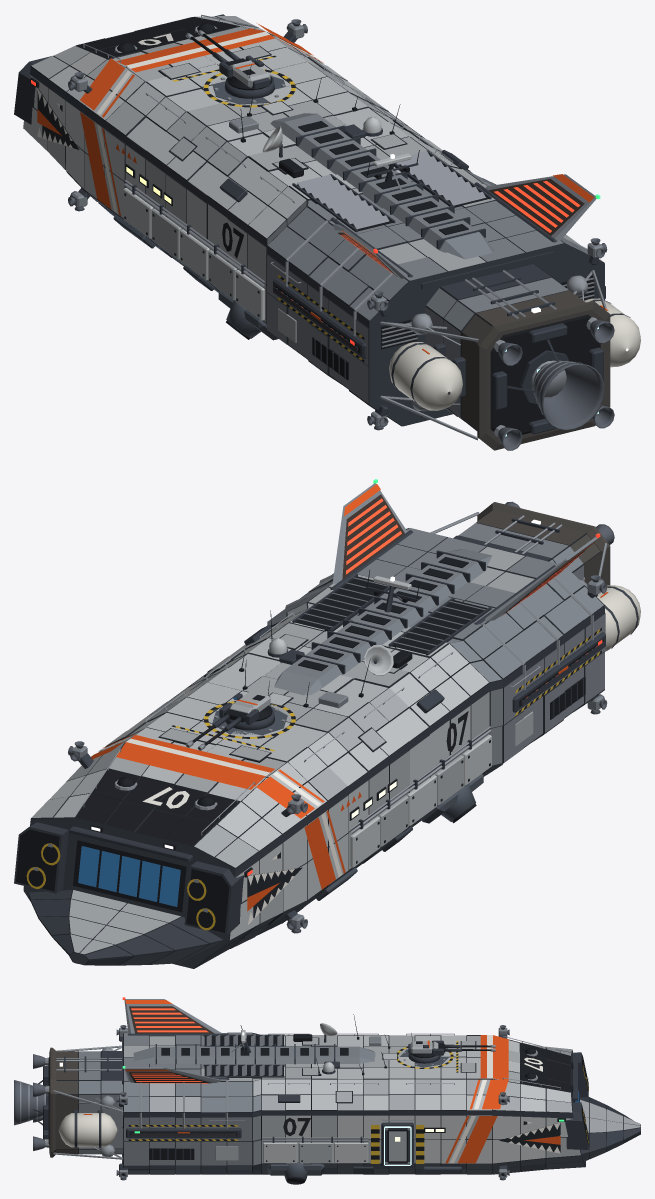
File: hull.glb
3 renders of one model, top to bottom at view 1: azimuth 30°, elevation 25°; view 2: azimuth 150°, elevation 25°; view 3: azimuth 270°, elevation 25°, orthographic. The views are drawn at different scales.
Parts seen in each view (by area): view 1: fittings, hull, turret-dorsal; view 2: hull, fittings, turret-dorsal; view 3: hull, fittings, turret-dorsal, radiator-stbd, turret-dorsal-guns.
Boxes of the visible parts, bbox=[...] form: fittings: bbox=[14, 14, 640, 450]; hull: bbox=[23, 16, 604, 430]; turret-dorsal: bbox=[219, 55, 272, 90]; hull: bbox=[23, 509, 605, 968]; fittings: bbox=[14, 479, 640, 935]; turret-dorsal: bbox=[219, 681, 272, 725]; hull: bbox=[55, 1032, 640, 1174]; fittings: bbox=[14, 997, 588, 1184]; turret-dorsal: bbox=[408, 1033, 443, 1057]; radiator-stbd: bbox=[131, 1131, 236, 1136]; turret-dorsal-guns: bbox=[438, 1043, 495, 1052].
Size of the model in its own units: 10.54 by 7.69 by 36.35.
